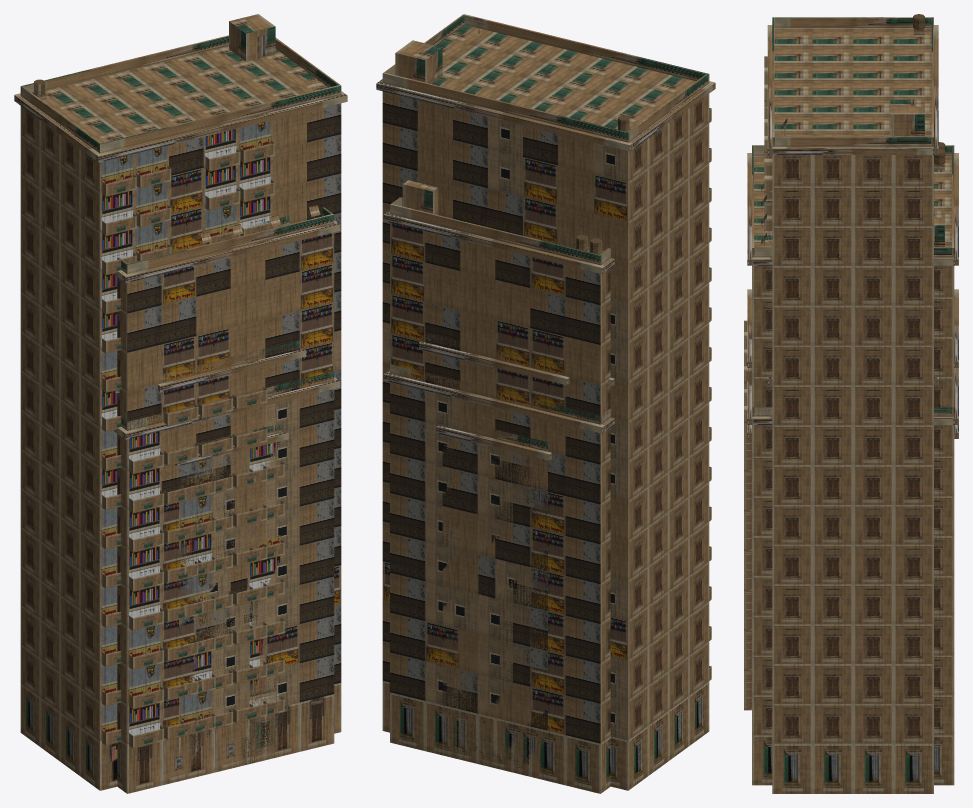
The picture shows the model from 3 angles, left to right: view 1: azimuth 30°, elevation 25°; view 2: azimuth 150°, elevation 25°; view 3: azimuth 270°, elevation 25°; orthographic projection.
Parts seen in each view (by area): view 1: Khedivial_7x4_f15_v1, Khedivial_6x5_f8_v0, Khedivial_6x5_f12_v0, Khedivial_3x5_f7_v0, Khedivial_4x5_f9_v1, Khedivial_6x5_f8_v1; view 2: Khedivial_7x4_f15_v1, Khedivial_6x5_f8_v0, Khedivial_6x5_f12_v0, Khedivial_3x5_f7_v0, Khedivial_4x5_f9_v1; view 3: Khedivial_7x4_f15_v1, Khedivial_6x5_f8_v0, Khedivial_6x5_f12_v0, Khedivial_3x5_f7_v0, Khedivial_6x5_f8_v1, Khedivial_4x5_f9_v1.
Part boxes in pixels (left/top/right/bottom): Khedivial_7x4_f15_v1: left=14, top=14, right=347, bottom=790; Khedivial_6x5_f8_v0: left=113, top=371, right=340, bottom=793; Khedivial_6x5_f12_v0: left=113, top=205, right=340, bottom=430; Khedivial_3x5_f7_v0: left=175, top=424, right=288, bottom=780; Khedivial_4x5_f9_v1: left=158, top=341, right=305, bottom=739; Khedivial_6x5_f8_v1: left=198, top=426, right=267, bottom=731; Khedivial_7x4_f15_v1: left=376, top=14, right=715, bottom=790; Khedivial_6x5_f8_v0: left=383, top=364, right=614, bottom=793; Khedivial_6x5_f12_v0: left=383, top=180, right=614, bottom=423; Khedivial_3x5_f7_v0: left=436, top=422, right=551, bottom=773; Khedivial_4x5_f9_v1: left=419, top=333, right=569, bottom=384; Khedivial_7x4_f15_v1: left=764, top=14, right=938, bottom=793; Khedivial_6x5_f8_v0: left=747, top=368, right=958, bottom=785; Khedivial_6x5_f12_v0: left=747, top=142, right=958, bottom=416; Khedivial_3x5_f7_v0: left=744, top=424, right=958, bottom=710; Khedivial_6x5_f8_v1: left=744, top=383, right=751, bottom=697; Khedivial_4x5_f9_v1: left=744, top=289, right=958, bottom=383.
Size of the model in its own units: 25.3 by 64.5 by 18.6.
1 material, 1 textured.
